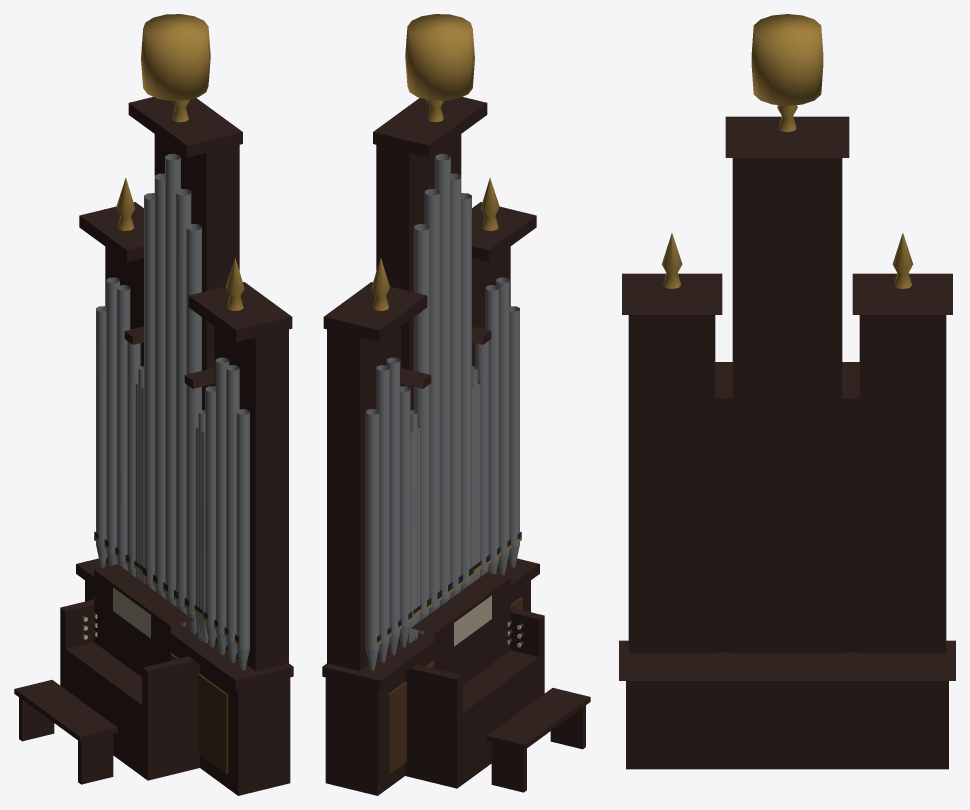
The model's file is hg-organ.glb.
3 views of the same model, side by side, from view 1: azimuth 30°, elevation 25°; view 2: azimuth 150°, elevation 25°; view 3: azimuth 270°, elevation 25° (orthographic). The views are drawn at different scales.
Visible parts, largest first — view 1: hg-organ; view 2: hg-organ; view 3: hg-organ.
Boxes of the visible parts, left/top/right/bottom form: hg-organ: left=14, top=14, right=293, bottom=795; hg-organ: left=322, top=14, right=590, bottom=795; hg-organ: left=619, top=14, right=955, bottom=769.
Bounding box in the file's own units: 1.7 × 7.17 × 2.92.
